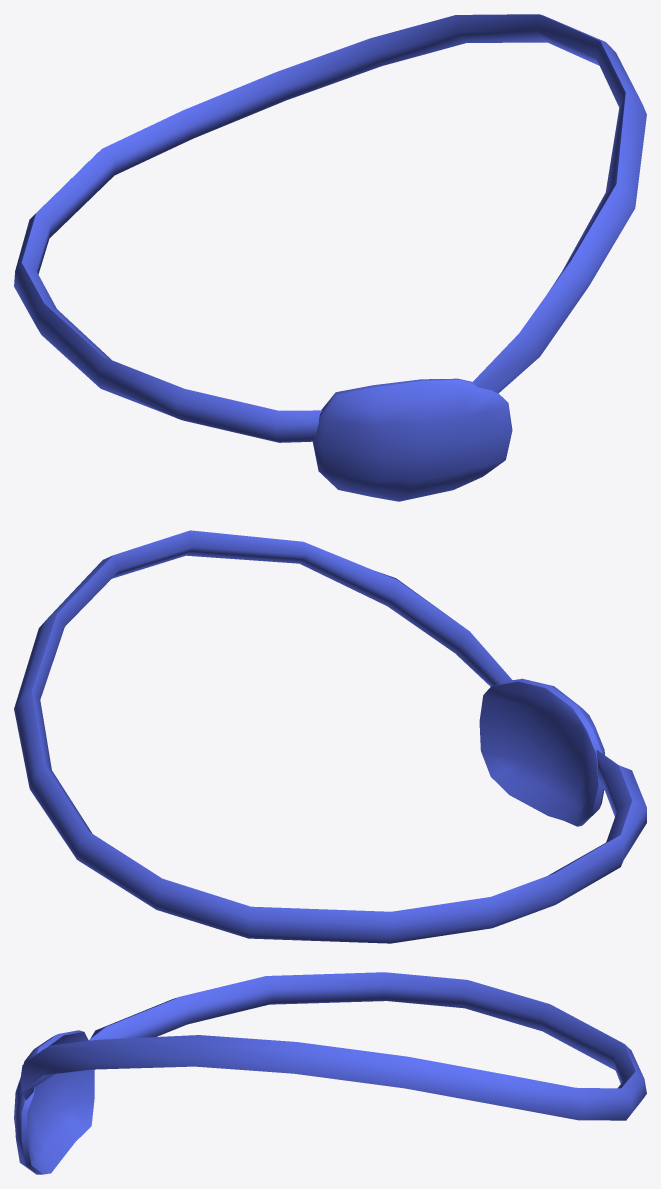
File: Mask_06_03.fbx
3 views of the same model, one above another, from view 1: azimuth 30°, elevation 25°; view 2: azimuth 150°, elevation 25°; view 3: azimuth 270°, elevation 25° (orthographic). The views are drawn at different scales.
Parts seen in each view (by area): view 1: Mask_06_03; view 2: Mask_06_03; view 3: Mask_06_03.
Part boxes in pixels (<box>): Mask_06_03: <box>14,14,646,501</box>; Mask_06_03: <box>14,530,646,943</box>; Mask_06_03: <box>14,972,646,1174</box>.
Size of the model in its own units: 34.95 by 17.78 by 38.62.
